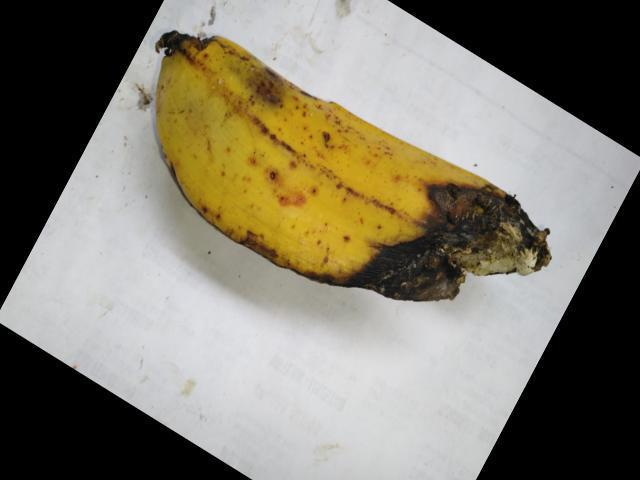rotten: (313, 185, 565, 318), (134, 3, 311, 104)
